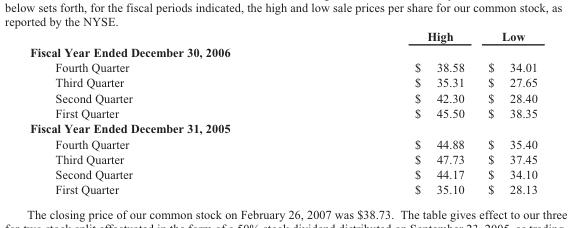table: (29, 29, 537, 197)
table column: (29, 29, 272, 197), (272, 29, 475, 197), (475, 29, 537, 197)
table column header: (29, 29, 537, 43)
table projected row header: (29, 43, 537, 58), (29, 120, 537, 135)
table row: (29, 58, 537, 74), (29, 104, 537, 120), (29, 150, 537, 166), (29, 181, 537, 197), (29, 43, 537, 58), (29, 74, 537, 89), (29, 89, 537, 104), (29, 120, 537, 135), (29, 135, 537, 150), (29, 166, 537, 181), (29, 29, 537, 43)
